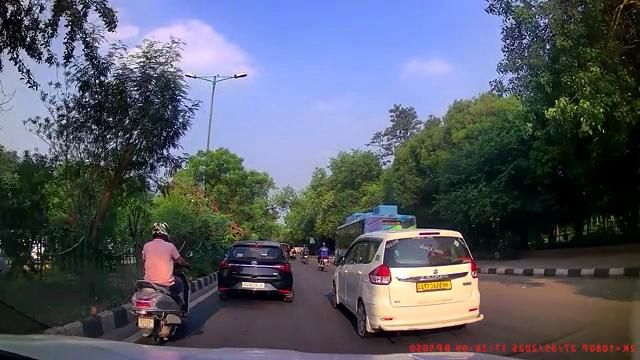motorcycle_with_helmet: (130, 219, 191, 344)
